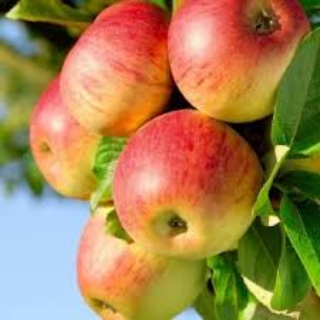tao: (114, 105, 265, 259)
